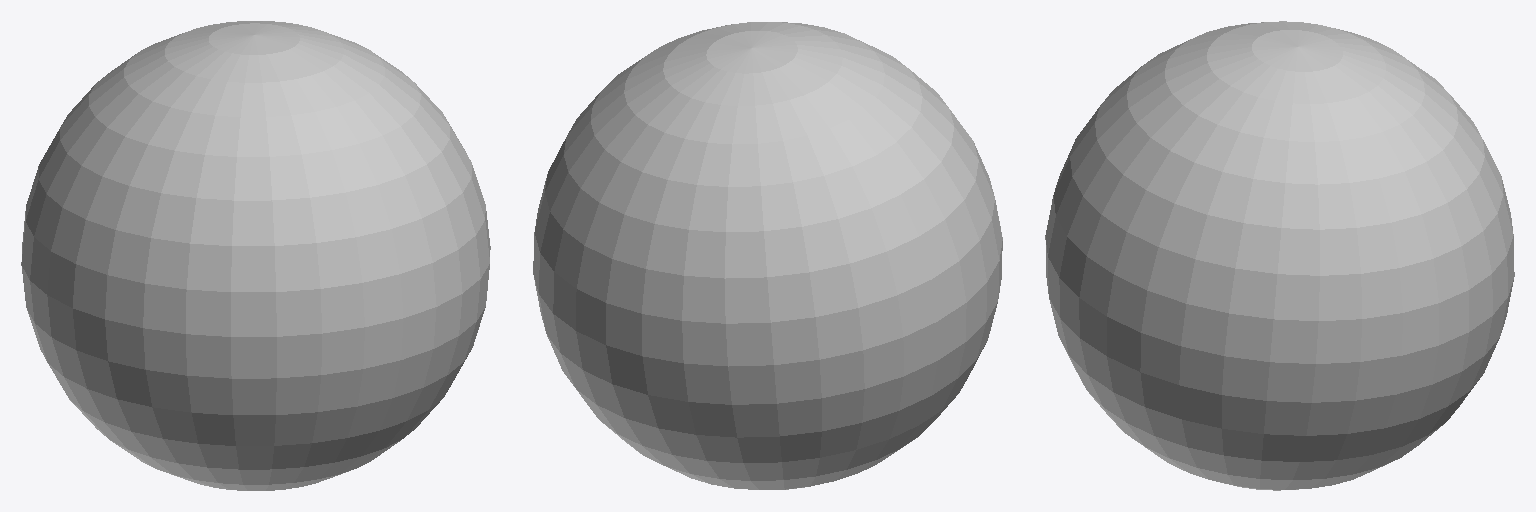
The model's file is eye.obj.
3 views of the same model, side by side, from view 1: azimuth 30°, elevation 25°; view 2: azimuth 150°, elevation 25°; view 3: azimuth 270°, elevation 25° (orthographic).
Visible parts, largest first — view 1: Sphere; view 2: Sphere; view 3: Sphere.
Part boxes in pixels (bbox=[...]): Sphere: bbox=[21, 21, 490, 490]; Sphere: bbox=[533, 22, 1002, 489]; Sphere: bbox=[1045, 21, 1514, 490].
Size of the model in its own units: 0.4301 by 0.4292 by 0.4291.